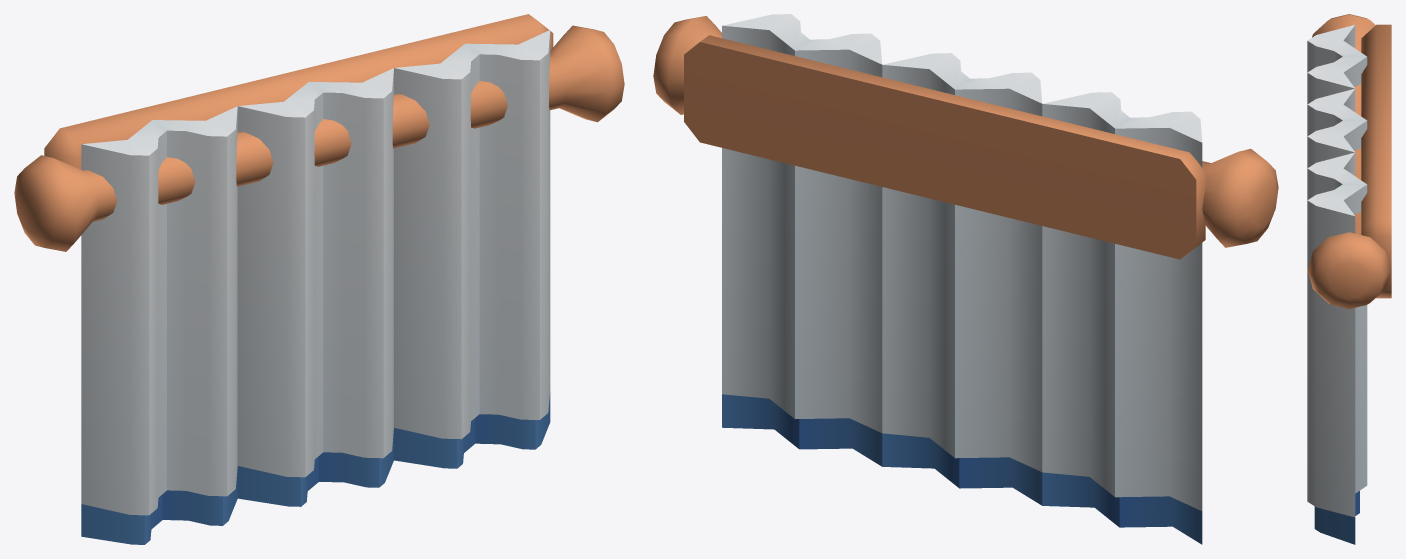
Rendered from curtains.glb.
3 views of the same model, side by side, from view 1: azimuth 30°, elevation 25°; view 2: azimuth 150°, elevation 25°; view 3: azimuth 270°, elevation 25° (orthographic). The views are drawn at different scales.
Parts seen in each view (by area): view 1: curtains; view 2: curtains; view 3: curtains.
Part boxes in pixels (<box>): curtains: <box>14,14,624,544</box>; curtains: <box>653,14,1278,544</box>; curtains: <box>1307,14,1391,544</box>.
Size of the model in its own units: 1.87 by 1.2 by 0.2787.
1 material, 1 textured.
